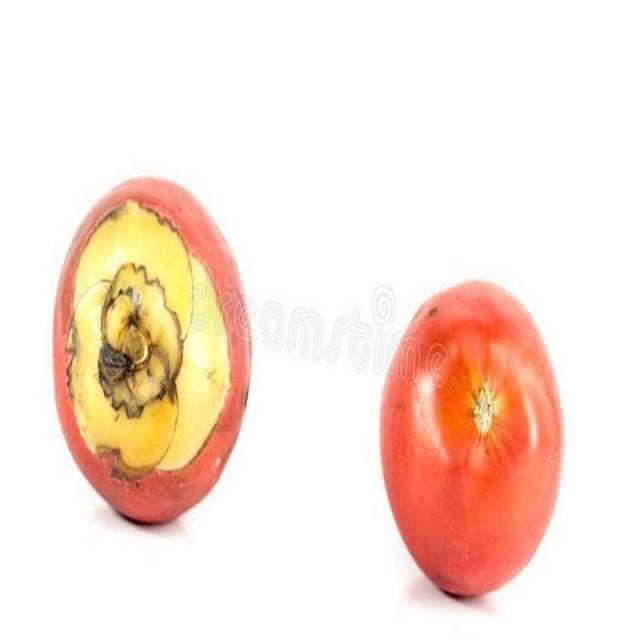good: (53, 175, 254, 528), (378, 281, 566, 600)
